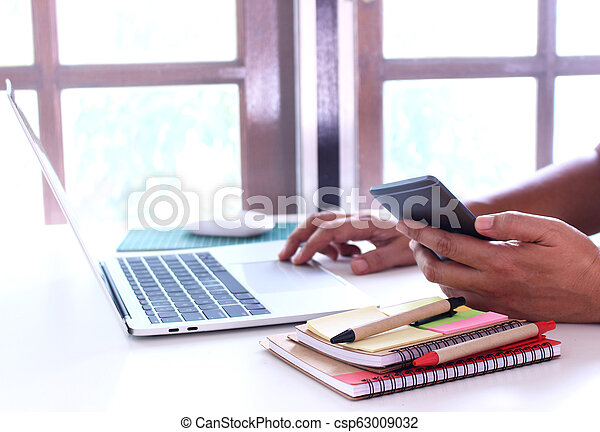Cell Phone: (369, 175, 502, 261)
